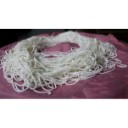idiyappam: (8, 33, 118, 86)
